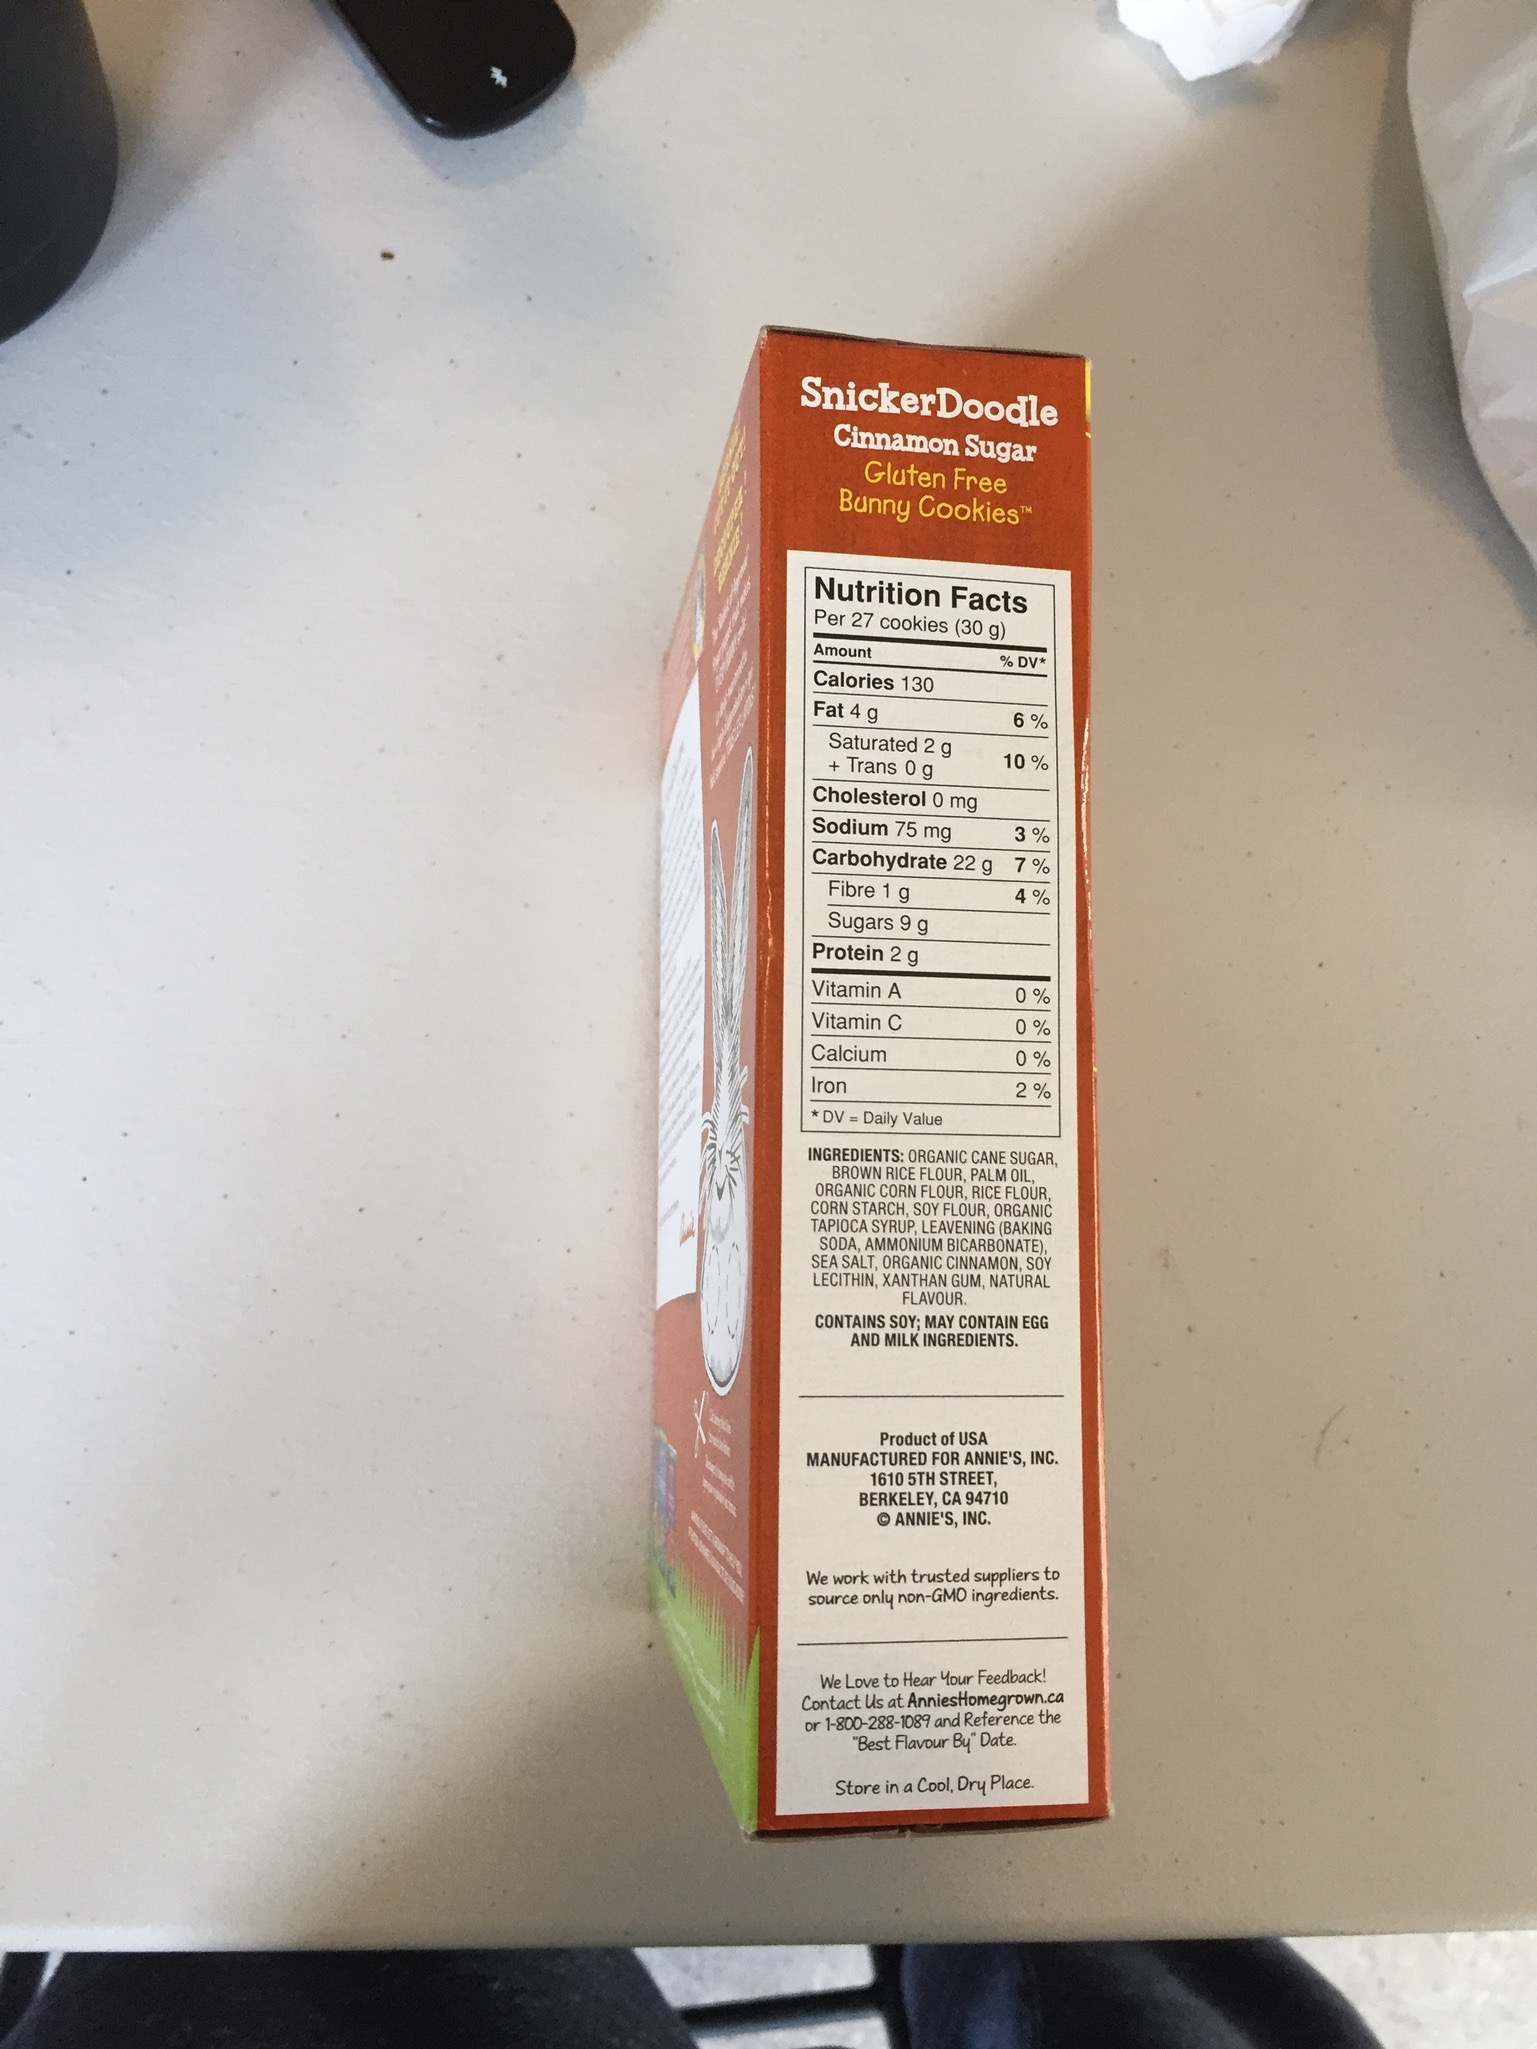annies_snickerdoodle_cinnamon_sugar: (777, 346, 1104, 1820)
